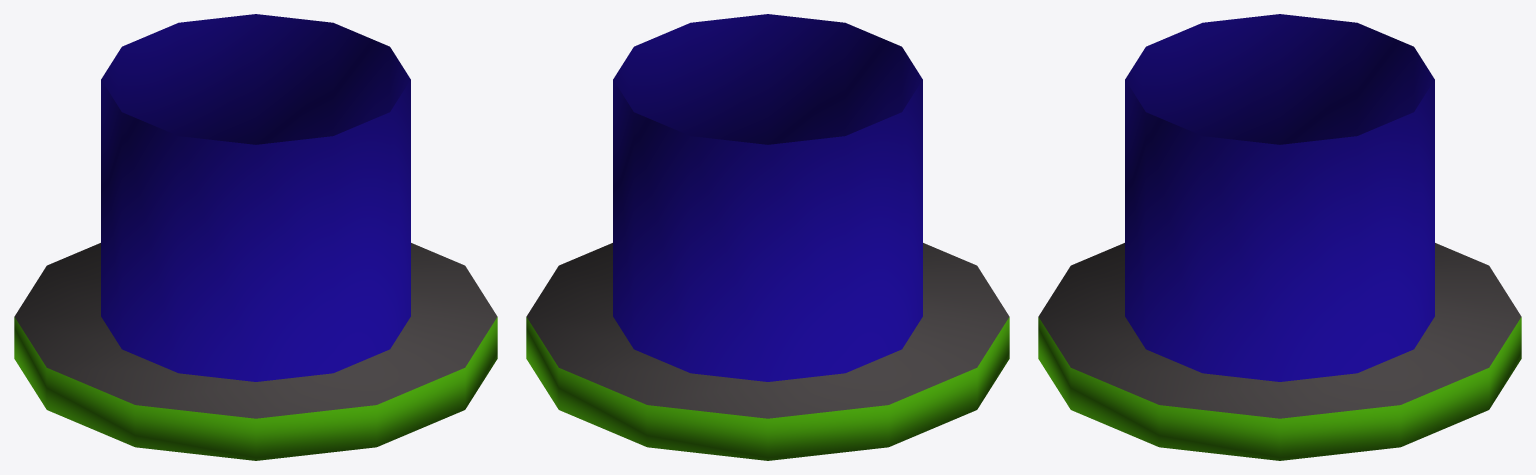
File: Bumpers_35cm_low.fbx
3 views of the same model, side by side, from view 1: azimuth 30°, elevation 25°; view 2: azimuth 150°, elevation 25°; view 3: azimuth 270°, elevation 25° (orthographic).
Visible parts, largest first — view 1: Bumper_35cm; view 2: Bumper_35cm; view 3: Bumper_35cm.
Boxes of the visible parts, box(x1,y1,x2,y2) form: Bumper_35cm: box(14, 14, 497, 460); Bumper_35cm: box(526, 14, 1009, 460); Bumper_35cm: box(1038, 14, 1521, 460).
Size of the model in its own units: 0.5179 by 0.3495 by 0.5179.
